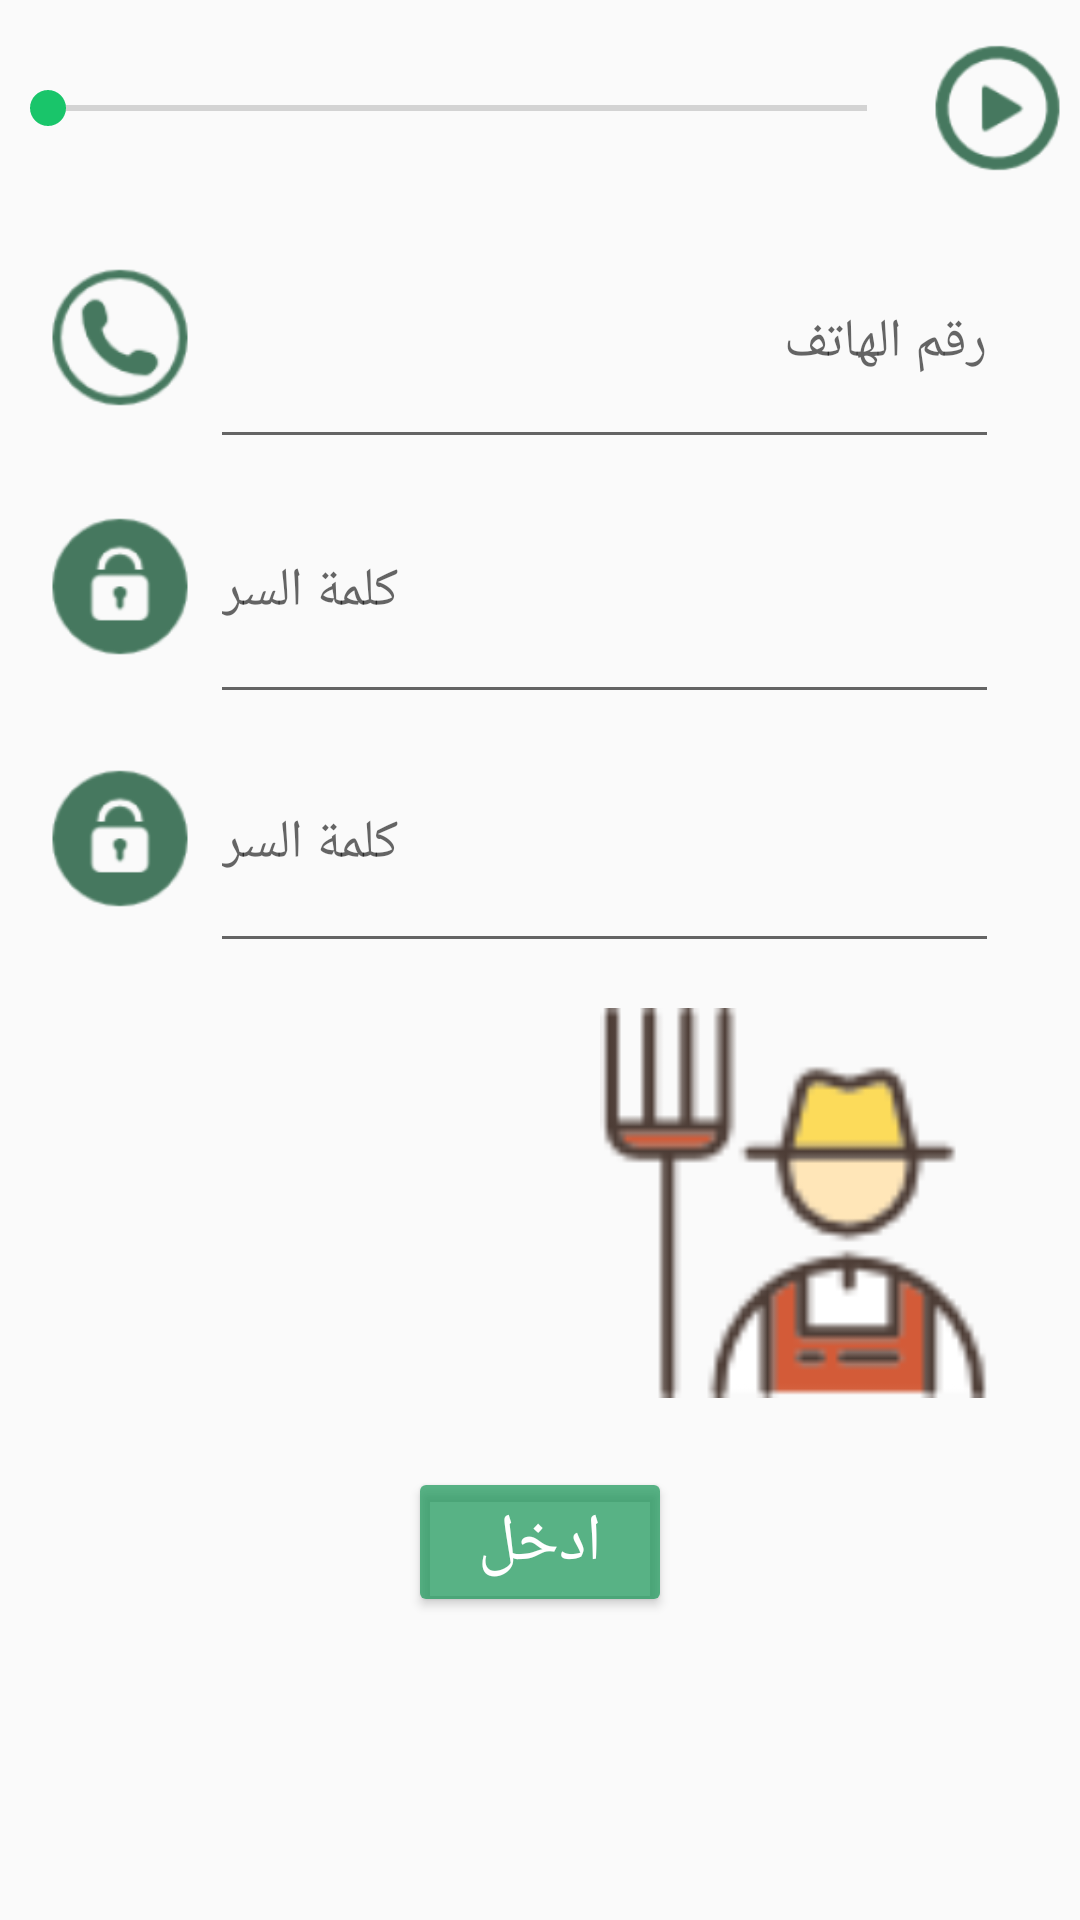

Where icons sit on this 1080px x 1920px app screen, as (x1=x1, y1=y1, x2=x2, y2=y2):
lock: (x1=52, y1=518, x2=188, y2=655), (x1=52, y1=770, x2=188, y2=907)
phone: (x1=52, y1=269, x2=188, y2=406)
play: (x1=935, y1=46, x2=1060, y2=170)
